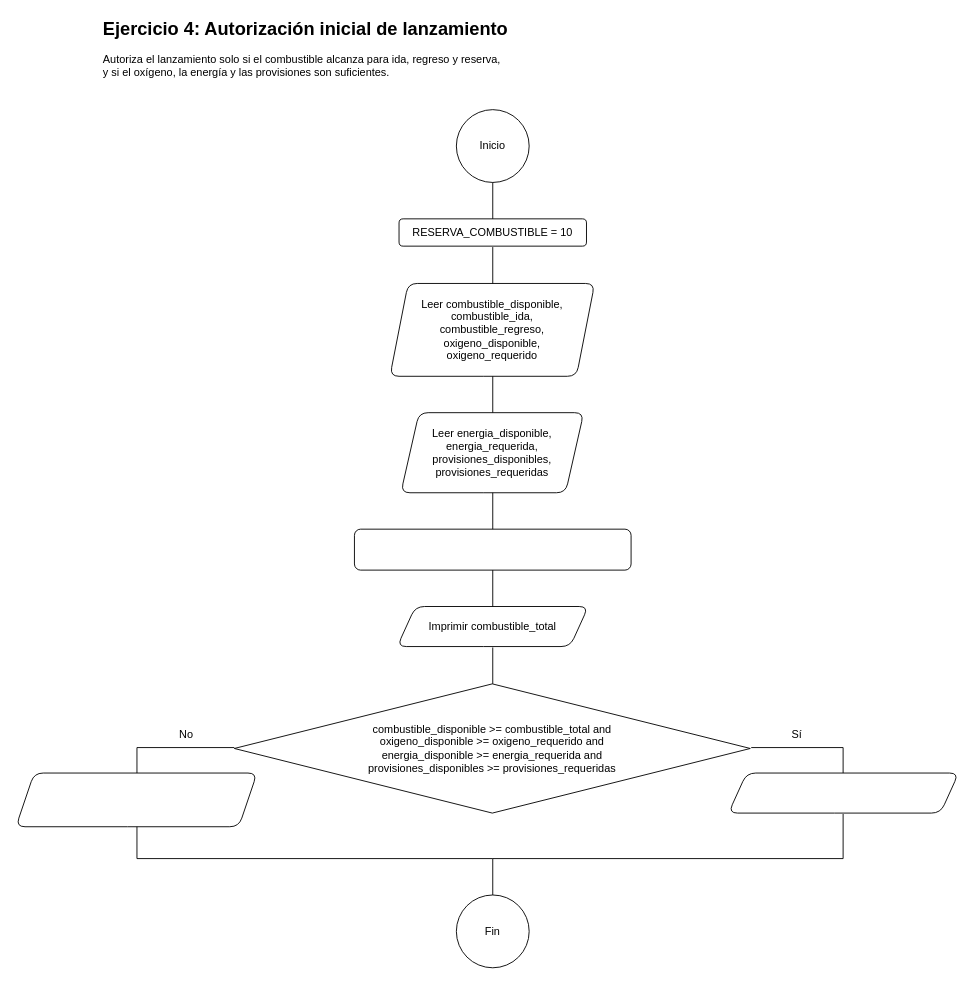
The diagram is 975 pixels wide and 984 high, and some of its shapes have lost their labels. Each missing label, with the box of its shape:
combustible_total = combustible_ida + combustible_regreso + RESERVA_COMBUSTIBLE: (354, 528, 631, 570)
Imprimir "lanzamiento autorizado.": (728, 772, 959, 813)
Imprimir "lanzamiento no autorizado. La mision debe ser revisada.": (15, 772, 257, 827)
